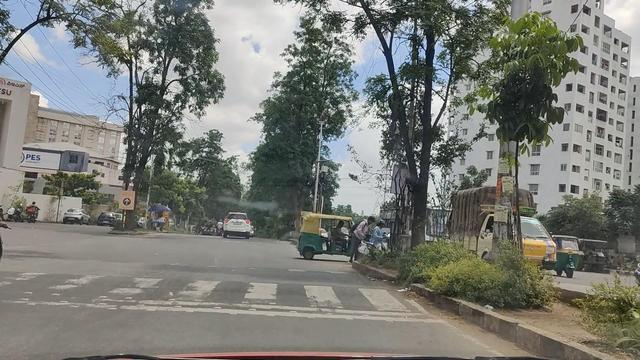LMV: (294, 213, 358, 256)
SpeedBump: (0, 267, 396, 312)
